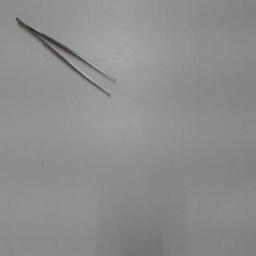Gillies Toothed Dissector: (15, 9, 123, 105)
